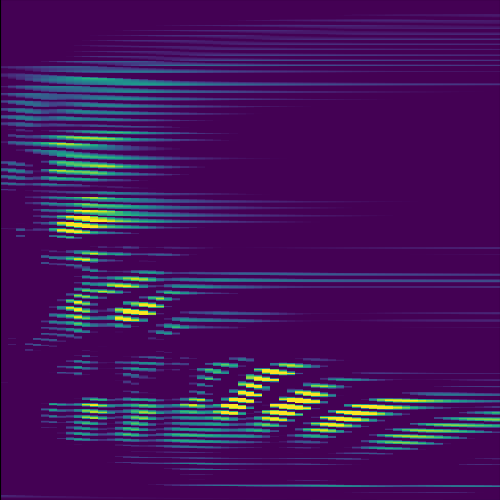semblance: (216, 359, 308, 423), (66, 272, 166, 329), (316, 392, 435, 435), (385, 408, 500, 451), (256, 376, 334, 430), (52, 193, 126, 241), (53, 157, 134, 178), (46, 129, 112, 151), (70, 247, 103, 265)
